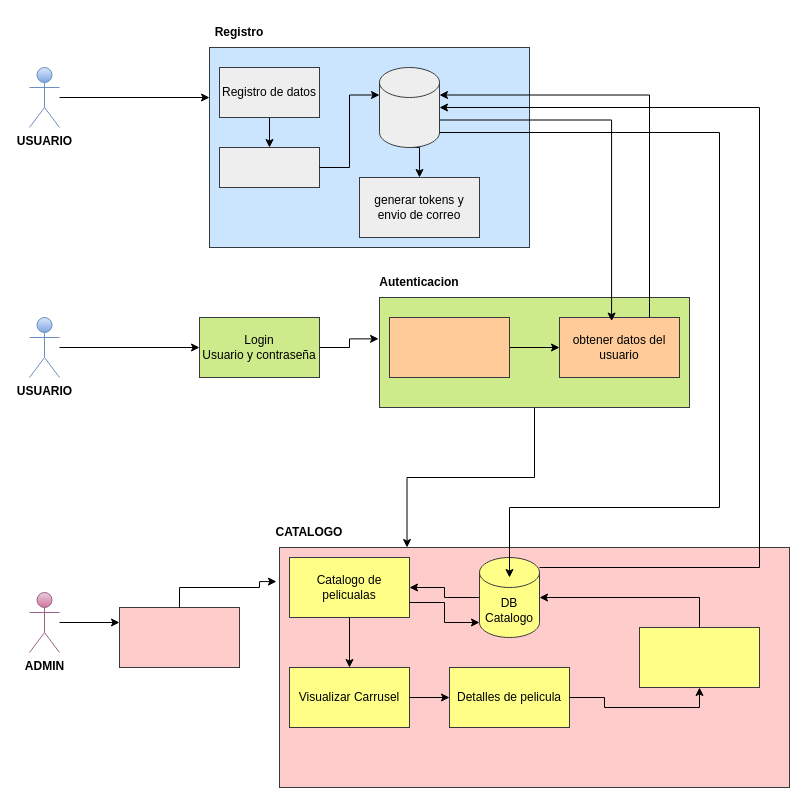
The diagram is 807 pixels wide and 805 high, and some of its shapes have lost their labels. Each missing label, with the centre of its shape:
Agregar a una lista: (699,657)
Agregar Peliculas al catalogo: (179,637)
DB usuarios: (409,107)
validar datos: (269,167)
validar token JWT y tiempo de validez: (449,347)
